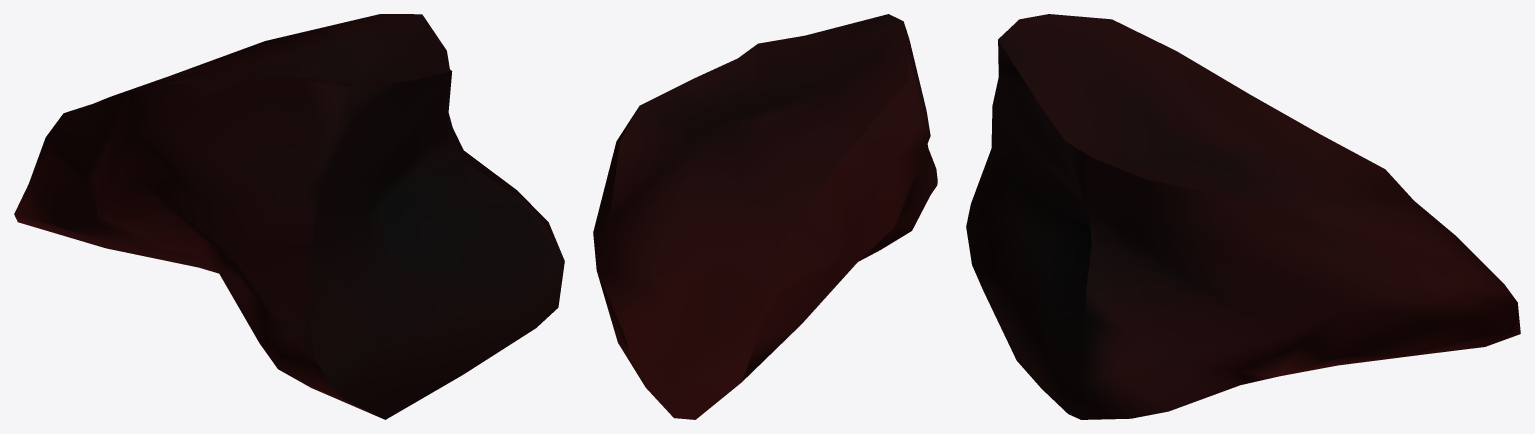
Rendered from geology-pebbles-obsidian_v3.fbx.
The picture shows the model from 3 angles, left to right: view 1: azimuth 30°, elevation 25°; view 2: azimuth 150°, elevation 25°; view 3: azimuth 270°, elevation 25°; orthographic projection. The views are drawn at different scales.
Visible parts, largest first — view 1: Obsidian_v3; view 2: Obsidian_v3; view 3: Obsidian_v3.
Boxes of the visible parts, <box> form: Obsidian_v3: <box>14,14,564,419</box>; Obsidian_v3: <box>593,14,937,419</box>; Obsidian_v3: <box>966,14,1520,419</box>.
Bounding box in the file's own units: 9.33 × 8.02 × 12.95.
